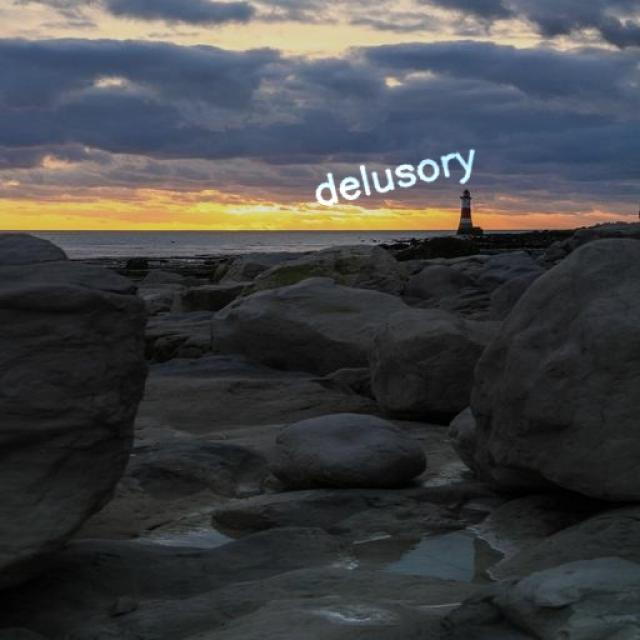watermark: (306, 137, 479, 212)
